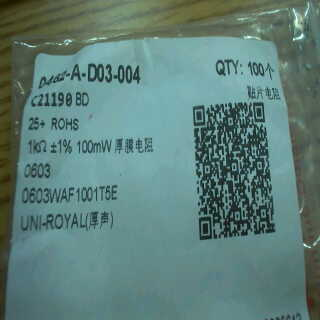1kR: (23, 135, 50, 158)
